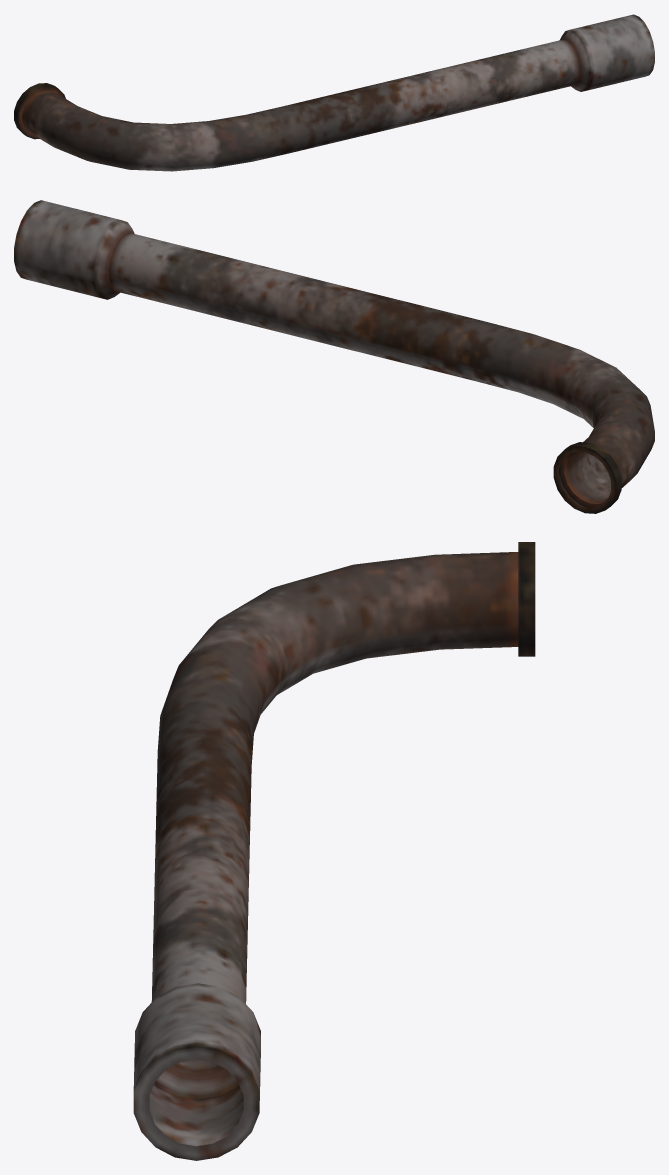
Rendered from pipe_7.glb.
3 renders of one model, top to bottom at view 1: azimuth 30°, elevation 25°; view 2: azimuth 150°, elevation 25°; view 3: azimuth 270°, elevation 25°, orthographic. The views are drawn at different scales.
Parts seen in each view (by area): view 1: Pipe.069_pipes.002_0; view 2: Pipe.069_pipes.002_0; view 3: Pipe.069_pipes.002_0.
Boxes of the visible parts, x1,y1,x2,y2 form: Pipe.069_pipes.002_0: [14, 14, 654, 171]; Pipe.069_pipes.002_0: [14, 200, 654, 513]; Pipe.069_pipes.002_0: [133, 542, 535, 1160].
Bounding box in the file's own units: 4.33 × 0.4431 × 1.39.
1 material, 1 textured.
